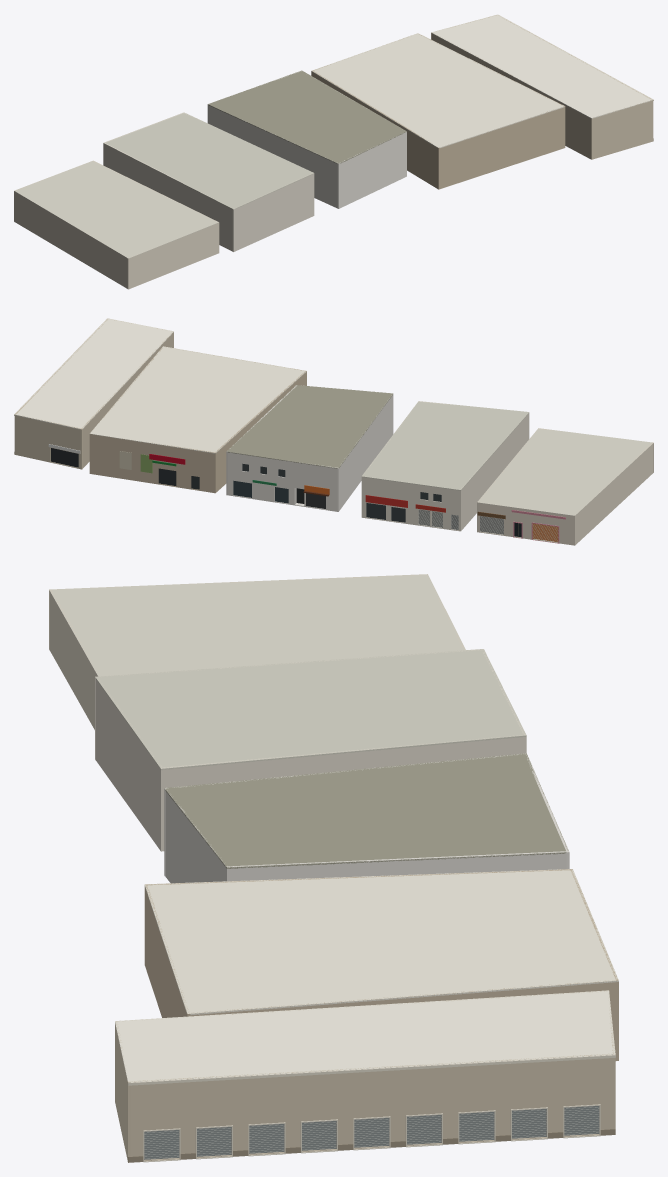
The picture shows the model from 3 angles, top to bottom: view 1: azimuth 30°, elevation 25°; view 2: azimuth 150°, elevation 25°; view 3: azimuth 270°, elevation 25°; orthographic projection. The views are drawn at different scales.
Visible parts, largest first — view 1: edificio; view 2: edificio; view 3: edificio.
Part boxes in pixels (bbox=[...]): edificio: bbox=[14, 14, 653, 289]; edificio: bbox=[14, 318, 653, 545]; edificio: bbox=[49, 574, 618, 1162].
Bounding box in the file's own units: 98.92 × 7.6 × 44.99.
